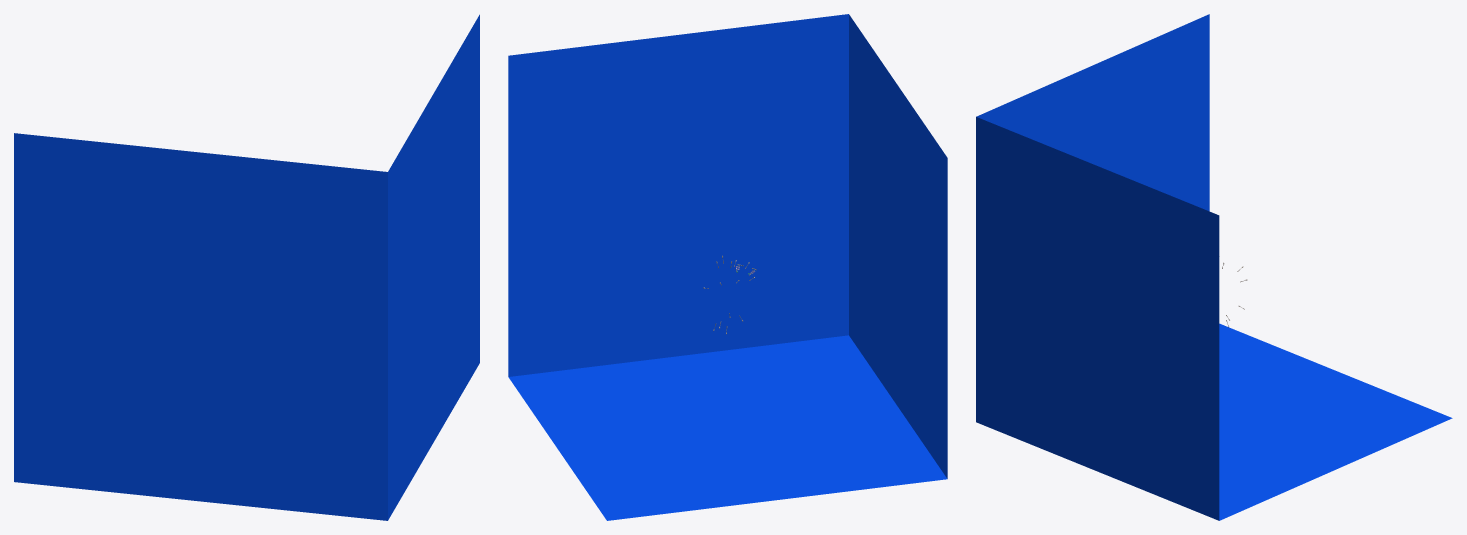
The model's file is streetLight.glb.
3 renders of one model, left to right at view 1: azimuth 30°, elevation 25°; view 2: azimuth 150°, elevation 25°; view 3: azimuth 270°, elevation 25°, orthographic. The views are drawn at different scales.
Parts seen in each view (by area): view 1: Cube; view 2: Cube; view 3: Cube.
Part boxes in pixels (left/top/right/bottom): Cube: left=14, top=14, right=479, bottom=520; Cube: left=508, top=14, right=947, bottom=520; Cube: left=976, top=14, right=1452, bottom=520.
Size of the model in its own units: 143 by 101 by 143.
6 materials, 3 textured.
